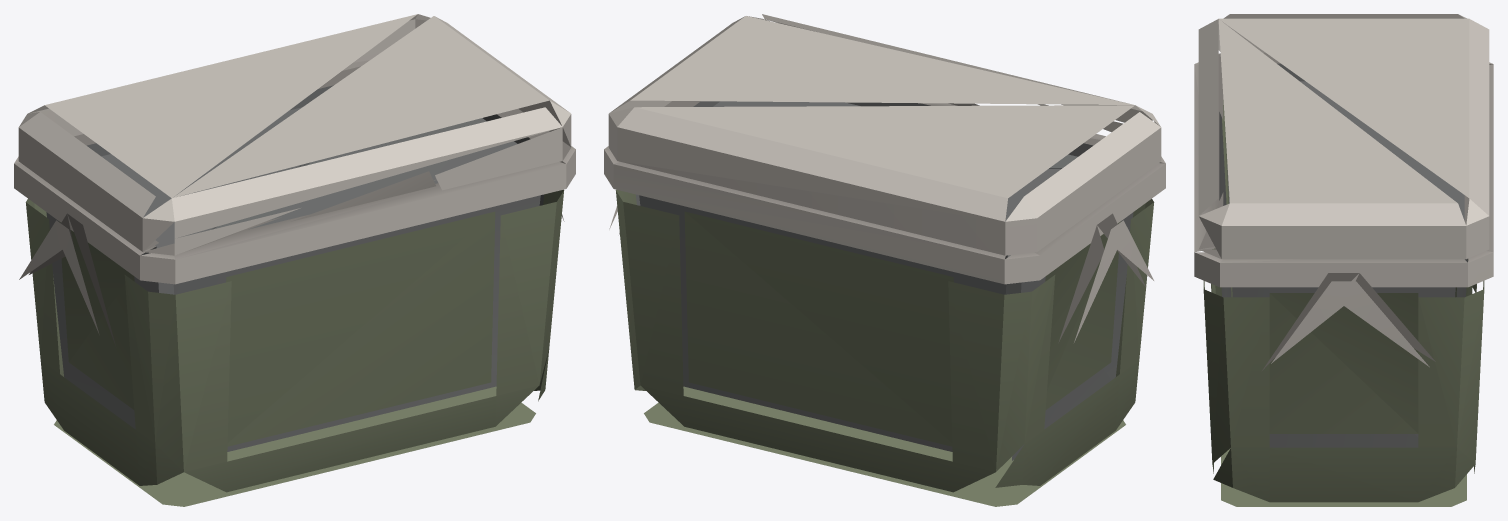
The model's file is cooler.lod.glb.
3 views of the same model, side by side, from view 1: azimuth 30°, elevation 25°; view 2: azimuth 150°, elevation 25°; view 3: azimuth 270°, elevation 25° (orthographic).
Parts seen in each view (by area): view 1: cooler; view 2: cooler; view 3: cooler.
Part boxes in pixels (x1,y1,x2,y2): cooler: (14,14,575,506); cooler: (604,14,1165,506); cooler: (1194,14,1493,506).
Size of the model in its own units: 0.9698 by 0.624 by 0.5486.
